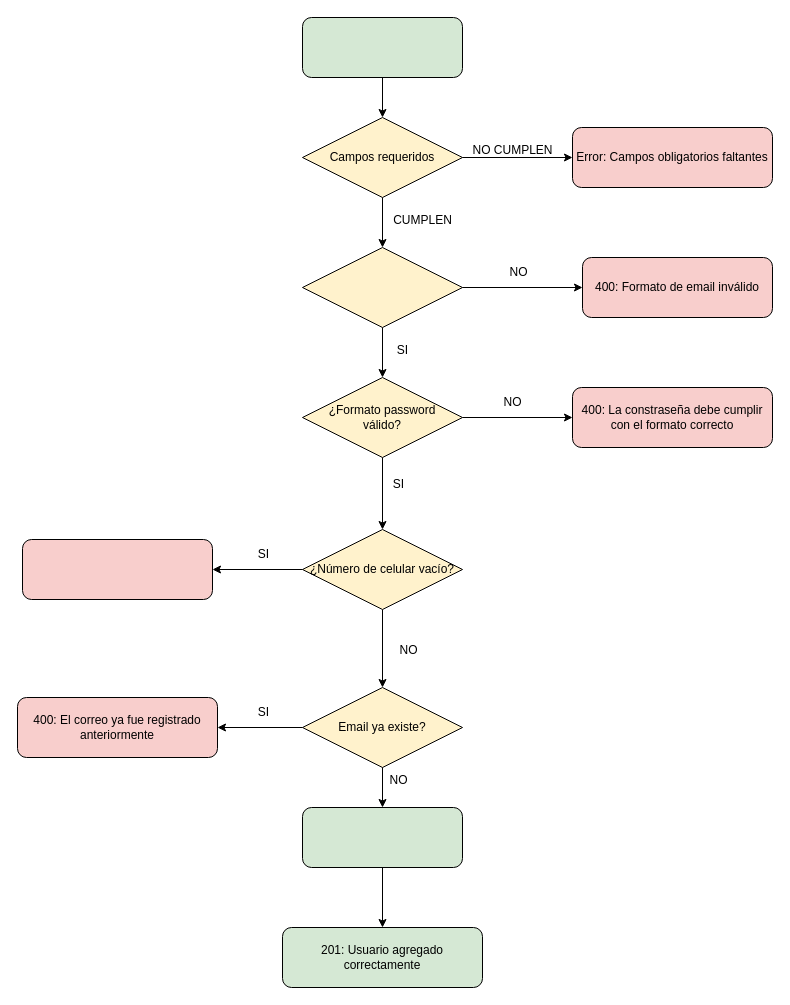
The diagram is 790 pixels wide and 1005 high, and some of its shapes have lost their labels. Each missing label, with the box of its shape:
400: Debe haber al menos un elemento en la lista de números de celular: (22, 538, 212, 600)
Guardar usuario en DB: (302, 806, 462, 868)
POST /users/register: (302, 16, 462, 78)
¿Formato Email válido?: (302, 246, 462, 328)
